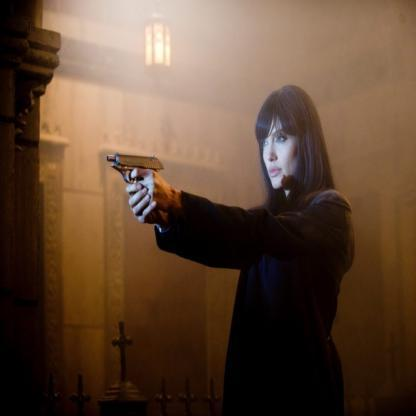Pistol: (102, 148, 164, 190)
